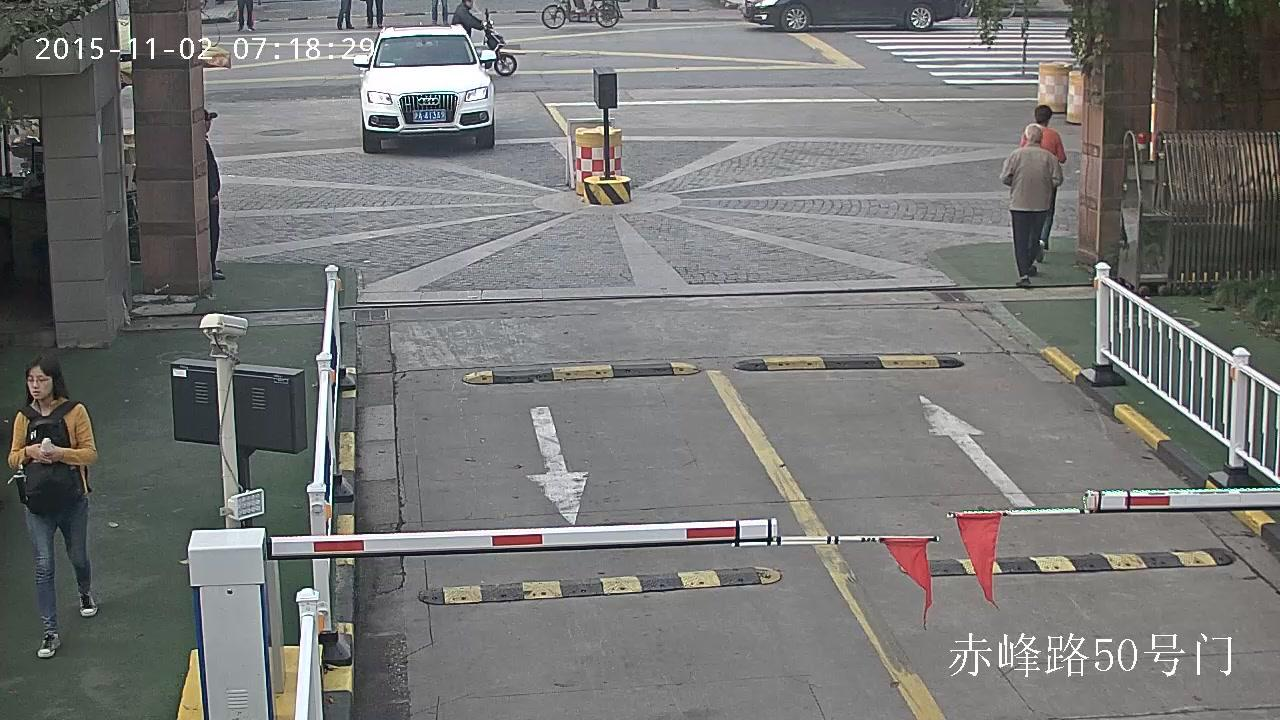person: (6, 350, 97, 658), (1000, 123, 1063, 286), (1019, 103, 1065, 251), (450, 0, 517, 76), (204, 109, 225, 279), (451, 0, 485, 42), (336, 0, 354, 29), (238, 0, 255, 30), (366, 0, 383, 28), (431, 0, 449, 26)
